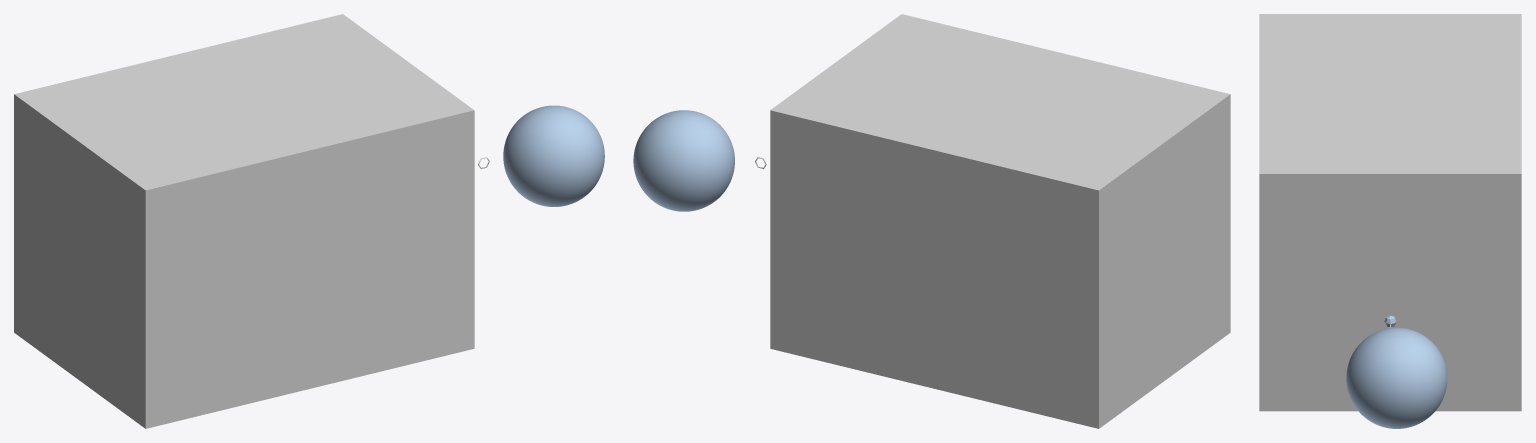
The model's file is 3d for XR FINAL BUBBLES.fbx.
The picture shows the model from 3 angles, left to right: view 1: azimuth 30°, elevation 25°; view 2: azimuth 150°, elevation 25°; view 3: azimuth 270°, elevation 25°; orthographic projection.
Visible parts, largest first — view 1: Cube.FOG, Mball.INSTANCE; view 2: Cube.FOG, Mball.INSTANCE; view 3: Cube.FOG, Mball.INSTANCE.
Boxes of the visible parts, x1,y1,x2,y2 form: Cube.FOG: [14, 14, 474, 428]; Mball.INSTANCE: [503, 105, 604, 206]; Cube.FOG: [770, 14, 1230, 428]; Mball.INSTANCE: [633, 110, 734, 211]; Cube.FOG: [1259, 14, 1521, 411]; Mball.INSTANCE: [1346, 327, 1447, 428].
Size of what is drawn, in the model's own units: 9658 by 4221 by 4221.
